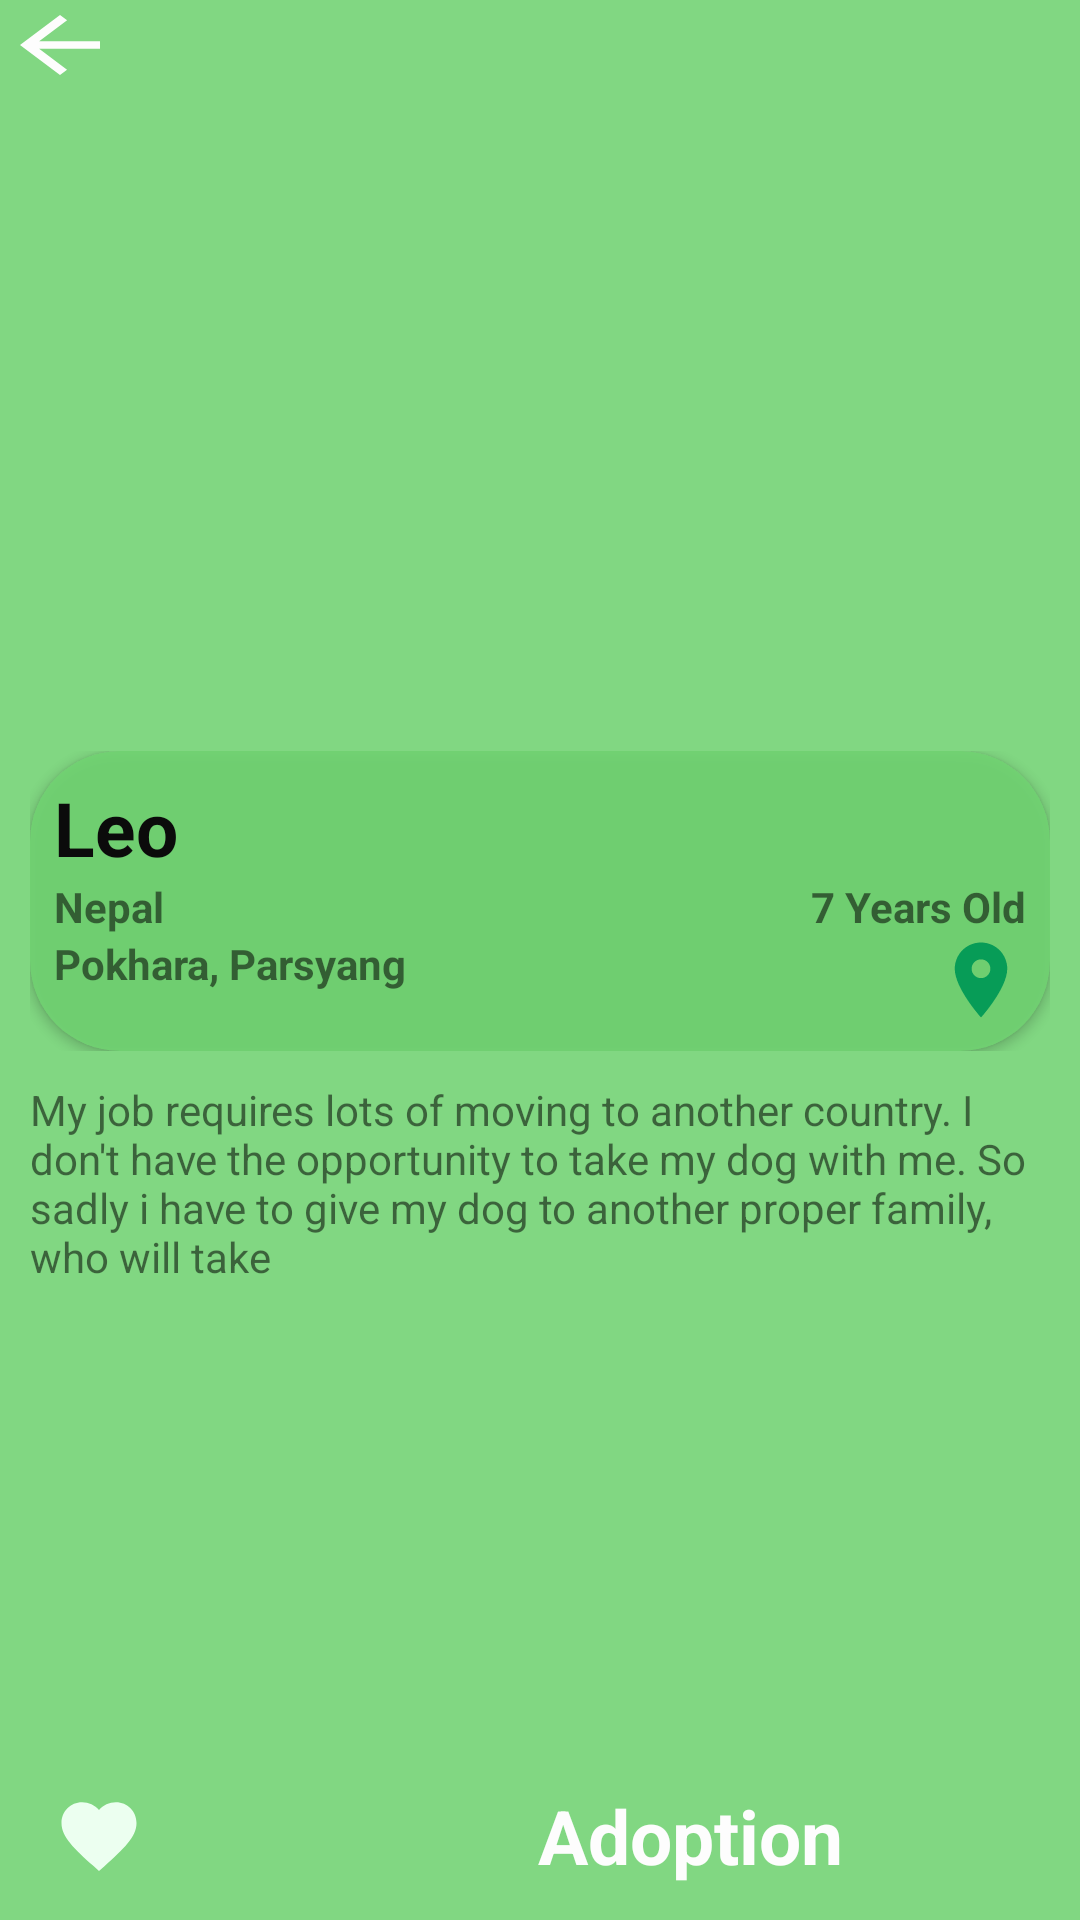

Icon click points for this 1080*1920 phone screenshot, format [x,y]:
back: [60,45]
favwhite: [99,1836]
location: [981,979]
